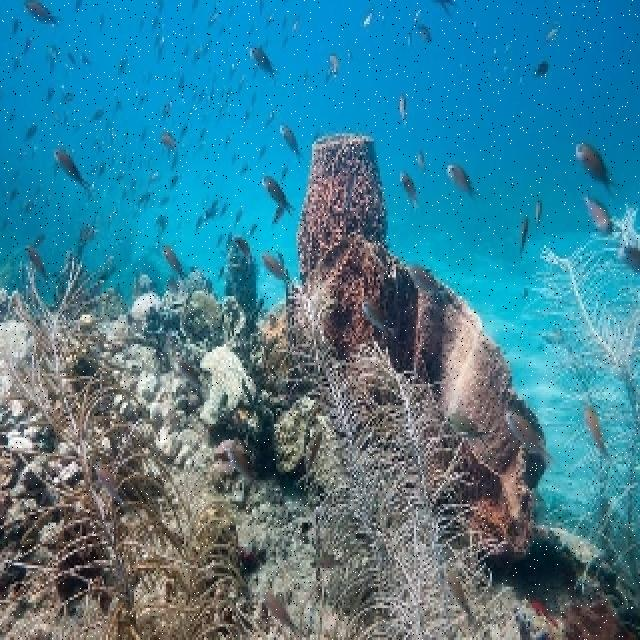aquatic plants: (11, 262, 215, 637), (280, 270, 438, 637), (353, 341, 507, 637), (535, 235, 638, 594), (545, 342, 617, 560), (146, 498, 252, 637)
fish: (575, 141, 623, 196), (509, 410, 558, 462), (264, 588, 308, 637), (53, 149, 94, 191), (584, 401, 610, 457), (263, 177, 292, 224), (25, 0, 64, 31), (448, 162, 479, 199), (364, 300, 396, 333), (248, 43, 277, 79), (586, 194, 610, 230), (281, 124, 306, 157)
reefs: (295, 135, 548, 556), (198, 346, 261, 419), (224, 236, 267, 324)
